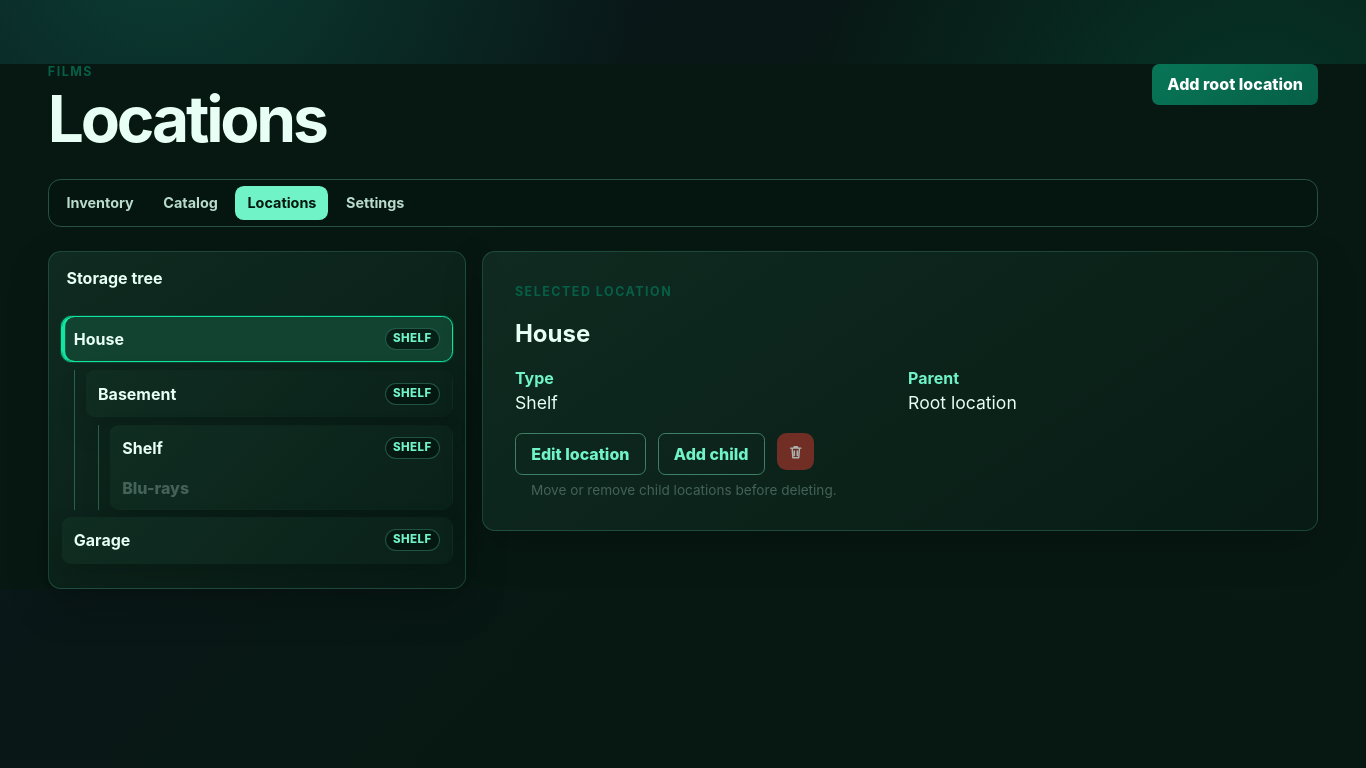
Test: LocationsView › requires delete confirmation and shows safe conflict errors
This screenshot has width=1366, height=768.
Click the button with class "location-node__content" showing "Shelf Shelf Blu-rays" at (143,448), box [109,425,453,510]
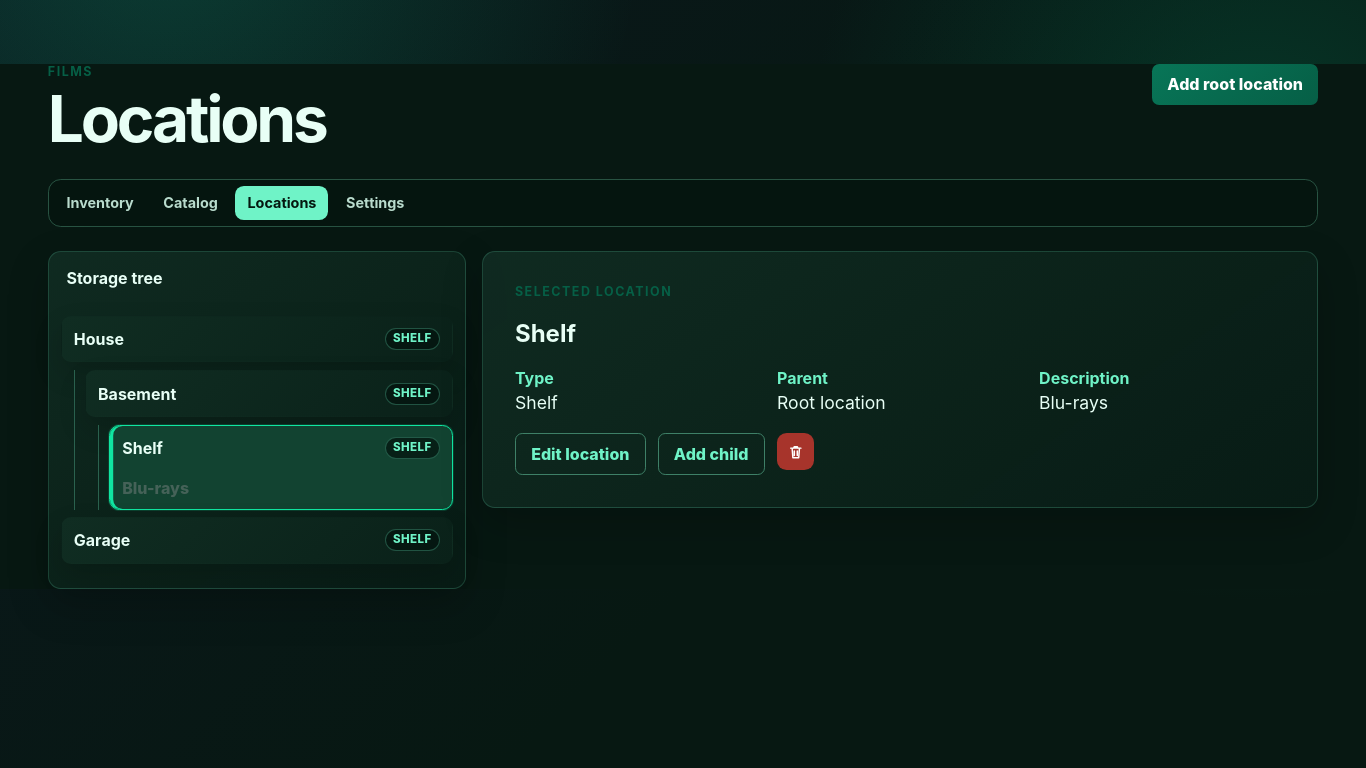
Click the button named "Delete Shelf" at (796,451), box [777,433,814,470]
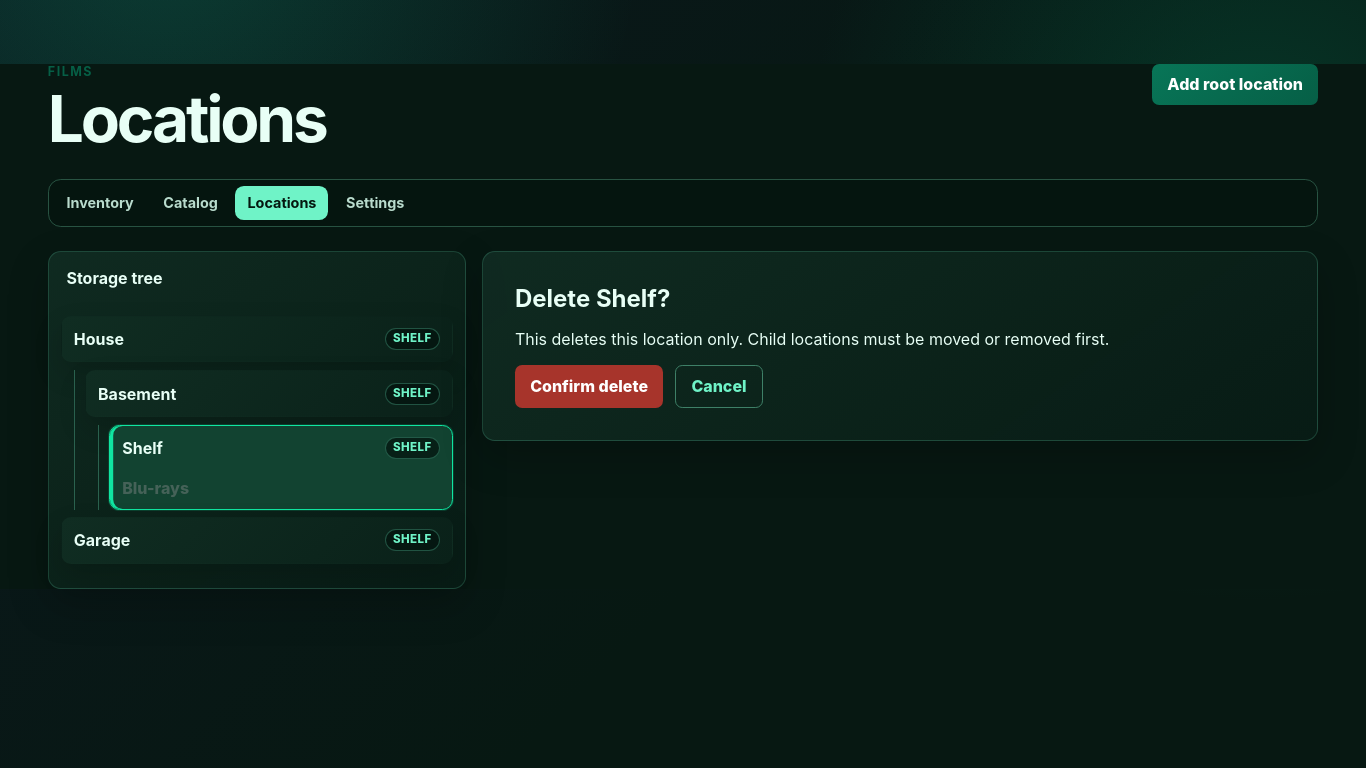
Click the button "Confirm delete" at (589,386), box [515,365,663,408]
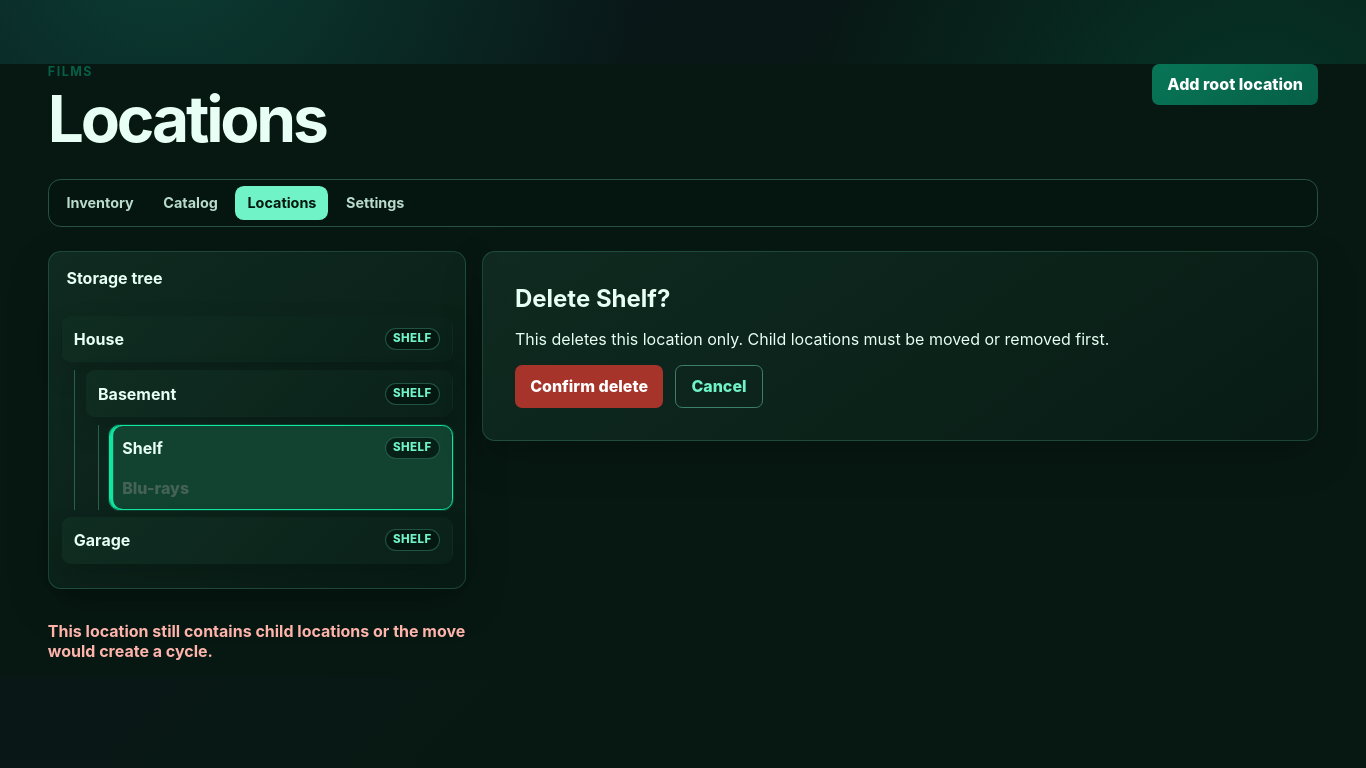
Expected: the message "This location still contains child locations or the move would create a cycle." is shown, [48,621,466,661]
